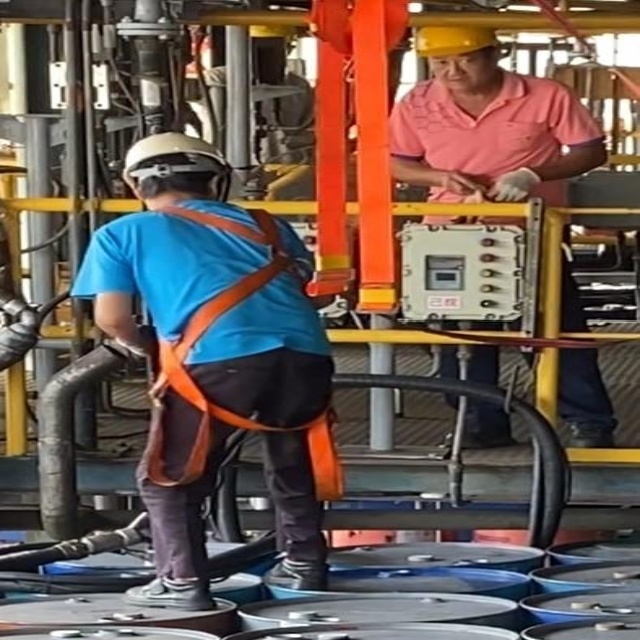Arnes_seguridad: (120, 204, 352, 501)
